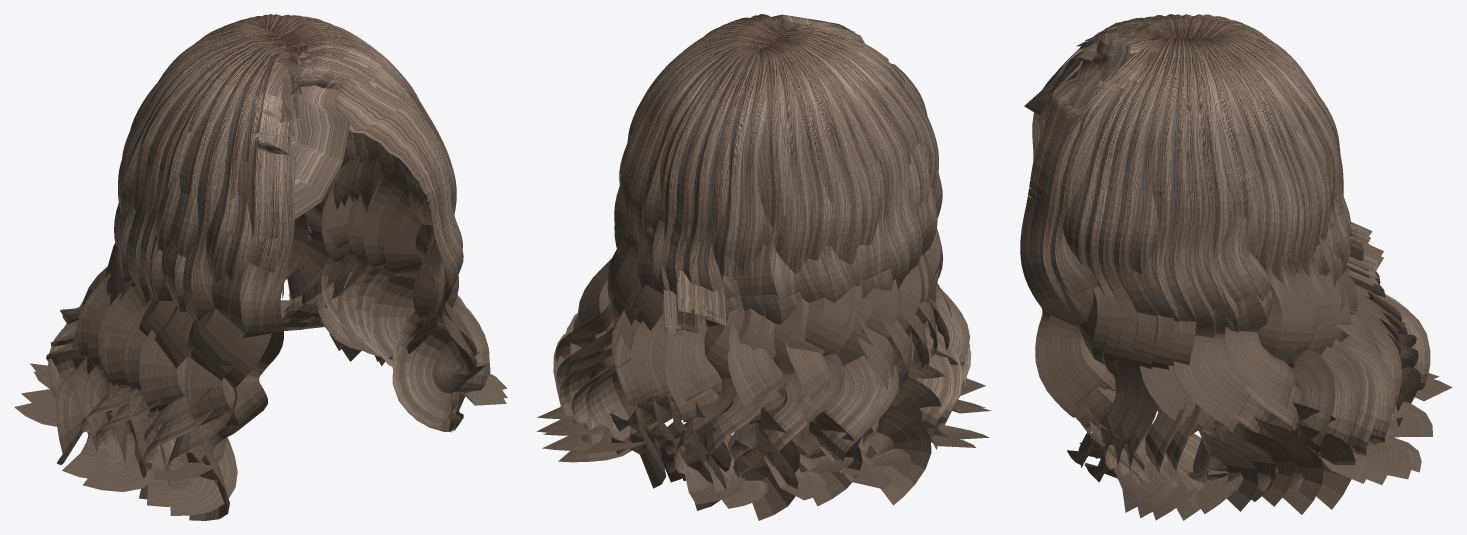
File: Hair_2.glb
3 views of the same model, side by side, from view 1: azimuth 30°, elevation 25°; view 2: azimuth 150°, elevation 25°; view 3: azimuth 270°, elevation 25° (orthographic). The views are drawn at different scales.
Parts seen in each view (by area): view 1: Hair_2; view 2: Hair_2; view 3: Hair_2.
Part boxes in pixels (box(x1,y1,x2,y2)): Hair_2: box(14, 14, 507, 520); Hair_2: box(536, 14, 991, 520); Hair_2: box(1020, 14, 1452, 520).
Size of the model in its own units: 0.2994 by 0.2791 by 0.2636.
1 material, 1 textured.
